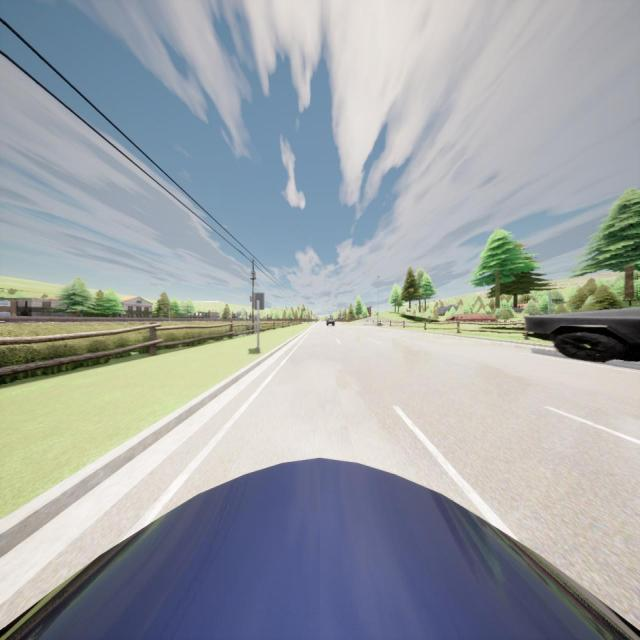Traffic_Signs: (253, 293, 264, 310)
Vehicle: (0, 455, 640, 640), (523, 305, 640, 362), (326, 317, 335, 326)
